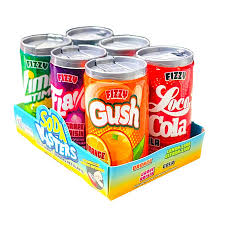can: (18, 25, 194, 165)
